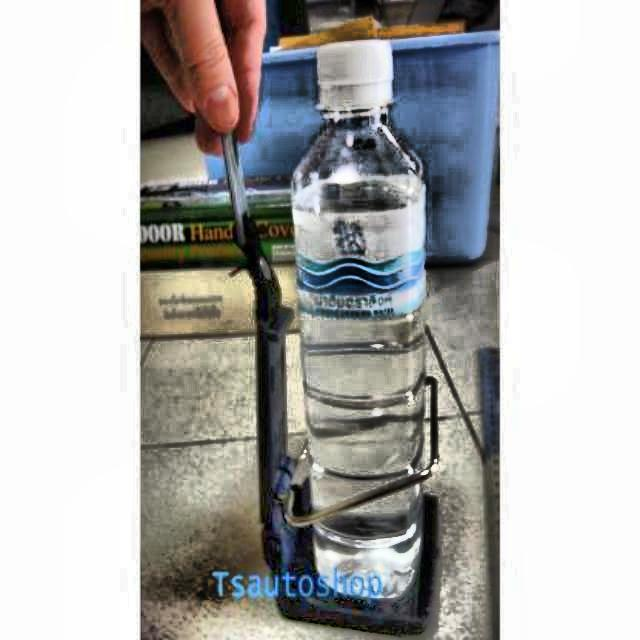Bottles: (288, 37, 434, 604)
